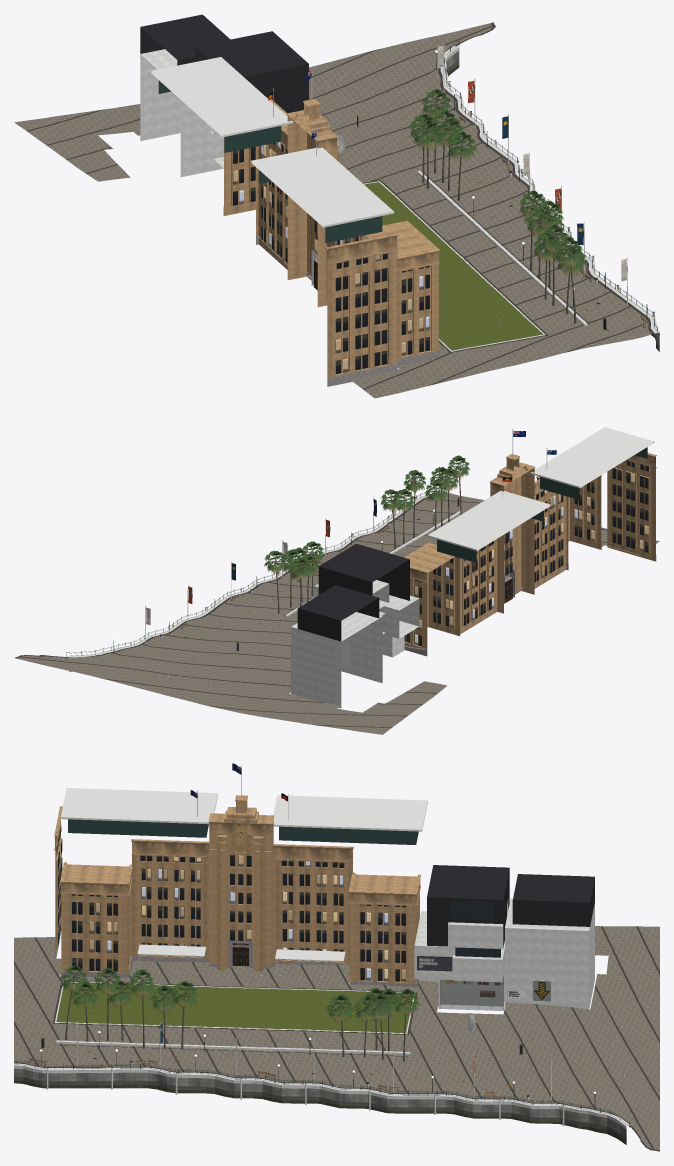
Rendered from quay-west.glb.
The picture shows the model from 3 angles, top to bottom: view 1: azimuth 30°, elevation 25°; view 2: azimuth 150°, elevation 25°; view 3: azimuth 270°, elevation 25°; orthographic projection. The views are drawn at different scales.
Visible parts, largest first — view 1: quay-west_ground_herring_c0_0, quay-west_ground_herring_c0_-1, quay-west_ground_herring_c0_1, quay-west_paint_white_c-1_-1, quay-west_stone_sand_d_c-1_-2, quay-west_grc_black_c-1_0, quay-west_ground_herring_c0_-2, quay-west_ground_herring_c-1_-2, quay-west_stone_sand_c-1_-1, quay-west_stone_sand_c-1_-2, quay-west_ground_herring_c-1_1, quay-west_win_glass_c-1_-2 (+33 smaller); view 2: quay-west_ground_herring_c0_1, quay-west_ground_herring_c0_0, quay-west_stone_sand_c-1_-1, quay-west_ground_herring_c-1_1, quay-west_grc_black_c-1_0, quay-west_paint_white_c-1_-1, quay-west_grc_white_c-1_1, quay-west_stone_sand_c-1_-2, quay-west_grc_white_c-1_0, quay-west_grc_black_c-1_1, quay-west_stone_sand_d_c-1_-1, quay-west_win_glass_c-1_-2 (+20 smaller); view 3: quay-west_stone_sand_c-1_-1, quay-west_ground_herring_c0_0, quay-west_ground_herring_c0_1, quay-west_ground_herring_c0_-1, quay-west_ground_herring_c-1_1, quay-west_paint_white_c-1_-1, quay-west_stone_sand_d_c-1_-1, quay-west_grc_white_c-1_0, quay-west_lawn_grass_c-1_-1, quay-west_grc_black_c-1_0, quay-west_win_glass_c-1_-1, quay-west_ground_herring_c-1_-1 (+50 smaller).
Part boxes in pixels (x1,y1,x2,y2): quay-west_ground_herring_c0_0: (328,97,527,214); quay-west_ground_herring_c0_-1: (418,193,604,306); quay-west_ground_herring_c0_1: (309,42,450,123); quay-west_paint_white_c-1_-1: (151,66,393,227); quay-west_stone_sand_d_c-1_-2: (326,221,440,375); quay-west_grc_black_c-1_0: (177,31,308,113); quay-west_ground_herring_c0_-2: (517,288,651,352); quay-west_ground_herring_c-1_-2: (350,336,563,398); quay-west_stone_sand_c-1_-1: (268,102,361,307); quay-west_stone_sand_c-1_-2: (335,251,438,372); quay-west_ground_herring_c-1_1: (14,104,140,170); quay-west_win_glass_c-1_-2: (336,253,429,373); quay-west_ground_herring_c0_1: (81,640,287,712); quay-west_ground_herring_c0_0: (150,581,314,669); quay-west_stone_sand_c-1_-1: (468,457,568,627); quay-west_ground_herring_c-1_1: (237,670,433,734); quay-west_grc_black_c-1_0: (318,543,409,623); quay-west_paint_white_c-1_-1: (477,427,653,549); quay-west_grc_white_c-1_1: (291,623,341,708); quay-west_stone_sand_c-1_-2: (568,459,650,559); quay-west_grc_white_c-1_0: (314,580,389,683); quay-west_grc_black_c-1_1: (297,585,378,641); quay-west_stone_sand_d_c-1_-1: (471,454,563,621); quay-west_win_glass_c-1_-2: (574,460,648,552); quay-west_stone_sand_c-1_-1: (118,801,332,973); quay-west_ground_herring_c0_0: (329,1018,540,1102); quay-west_ground_herring_c0_1: (540,1019,659,1112); quay-west_ground_herring_c0_-1: (119,1025,329,1084); quay-west_ground_herring_c-1_1: (540,926,659,1024); quay-west_paint_white_c-1_-1: (62,765,427,961); quay-west_stone_sand_d_c-1_-1: (126,795,353,970); quay-west_grc_white_c-1_0: (448,898,588,1010); quay-west_lawn_grass_c-1_-1: (119,984,329,1019); quay-west_grc_black_c-1_0: (427,865,589,947); quay-west_win_glass_c-1_-1: (140,855,327,950); quay-west_ground_herring_c-1_-1: (119,961,329,989).
Size of the model in its own units: 108 by 51.15 by 135.
42 materials, 19 textured.
